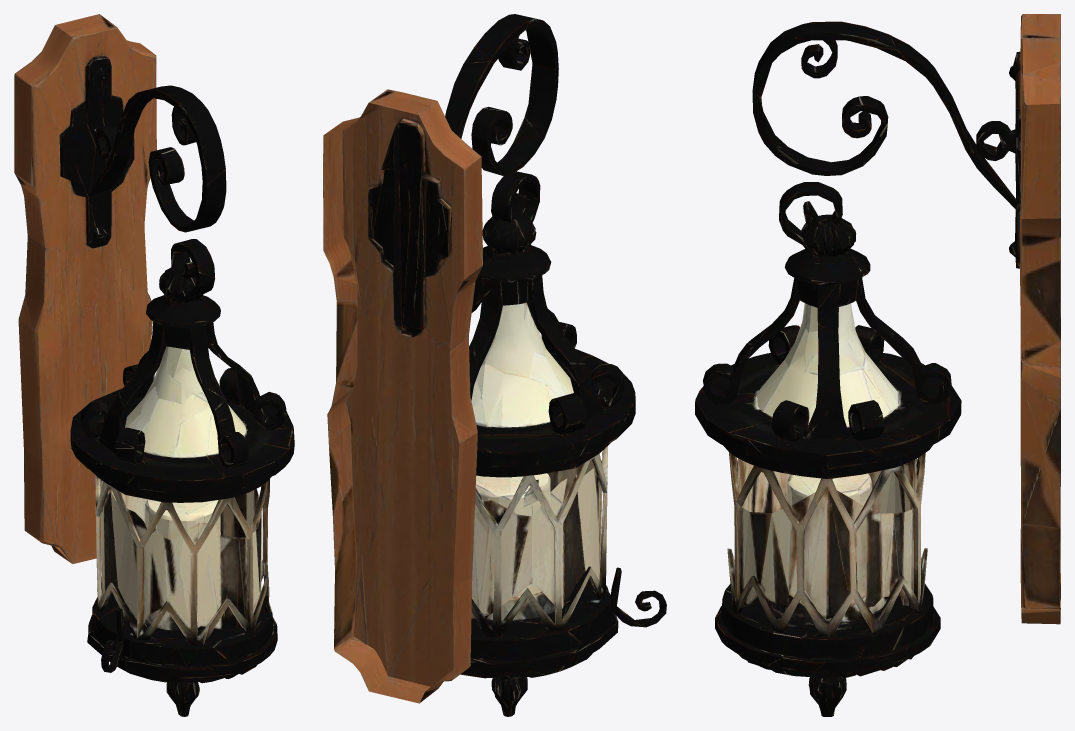
The model's file is wall_sconce.glb.
3 renders of one model, left to right at view 1: azimuth 30°, elevation 25°; view 2: azimuth 150°, elevation 25°; view 3: azimuth 270°, elevation 25°, orthographic. The views are drawn at different scales.
Bounding box in the file's own units: 0.6828 × 1.9 × 0.9145.
1 material, 1 textured.
